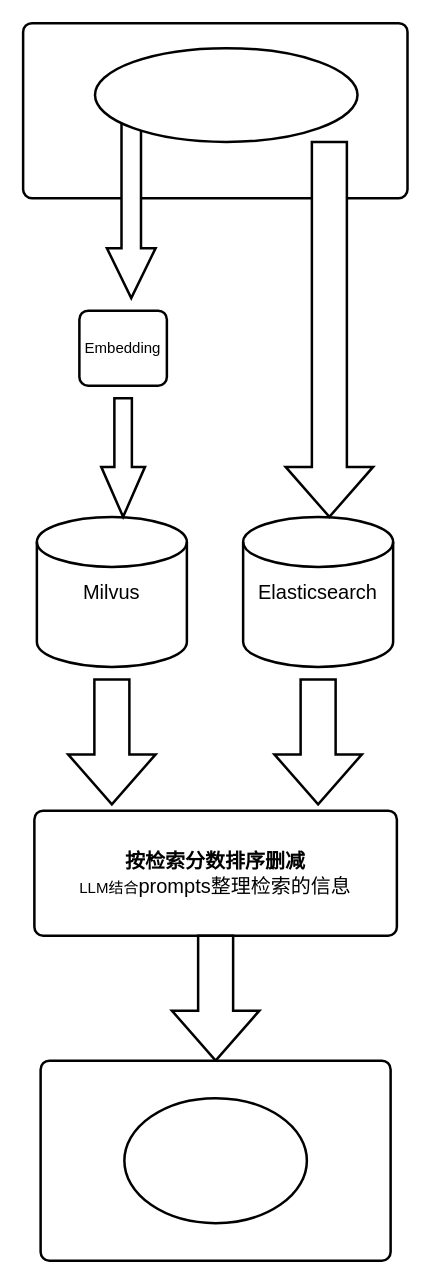
Some shapes in this 430 by 1283 pixel diagram are drawn without their labels. Each missing label, with the box of its shape:
Answer: (122, 1096, 308, 1224)
Query: (93, 46, 358, 142)
